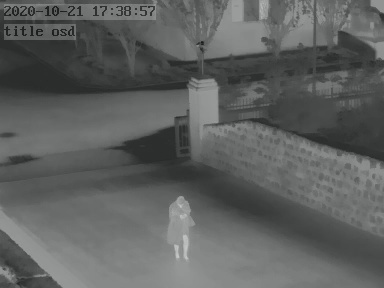person: (169, 195, 190, 262)
